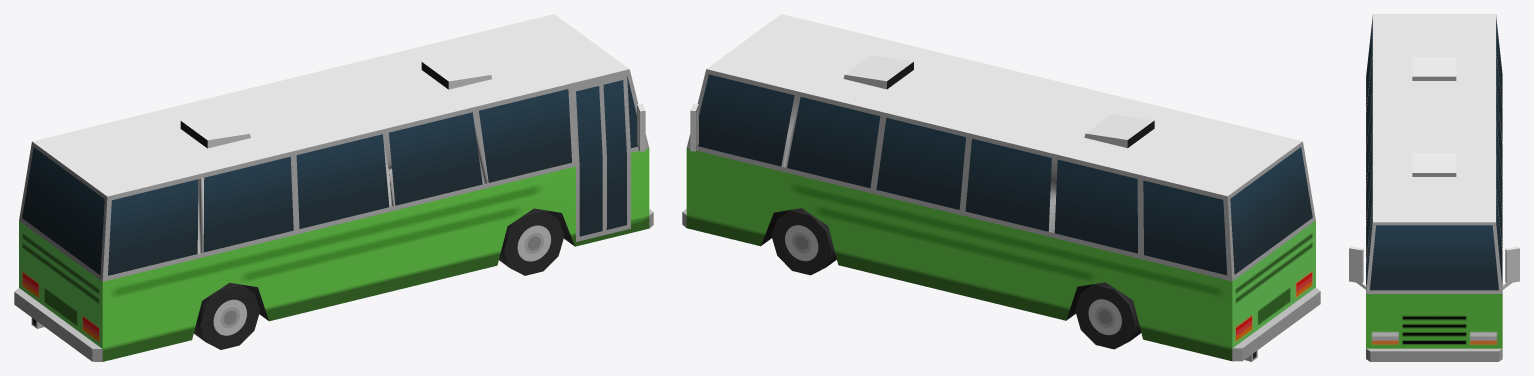
Rendered from Truck_024.glb.
3 views of the same model, side by side, from view 1: azimuth 30°, elevation 25°; view 2: azimuth 150°, elevation 25°; view 3: azimuth 270°, elevation 25° (orthographic). The views are drawn at different scales.
Parts seen in each view (by area): view 1: Truck_024, wheel_3_Truck_024_Wheel_2R, wheel_1_Truck_024_Wheel_1R; view 2: Truck_024, wheel_2_Truck_024_Wheel_2L, wheel_0_Truck_024_Wheel_1L; view 3: Truck_024.
Boxes of the visible parts, x1=… form: Truck_024: x1=14, y1=14, x2=653, y2=361; wheel_3_Truck_024_Wheel_2R: x1=194, y1=283, x2=260, y2=349; wheel_1_Truck_024_Wheel_1R: x1=499, y1=208, x2=564, y2=275; Truck_024: x1=682, y1=14, x2=1320, y2=361; wheel_2_Truck_024_Wheel_2L: x1=1075, y1=282, x2=1141, y2=349; wheel_0_Truck_024_Wheel_1L: x1=771, y1=208, x2=836, y2=275; Truck_024: x1=1349, y1=14, x2=1519, y2=361.
Bounding box in the file's own units: 7.33 × 2.32 × 2.37.
Materials: 1 (1 with a texture image).
